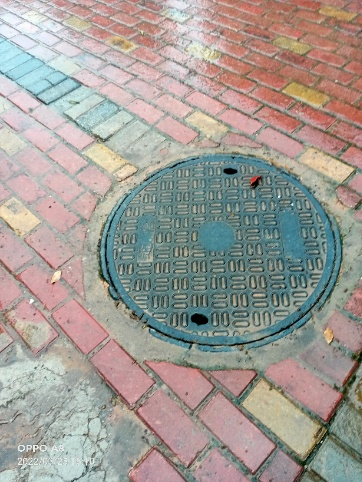good: (100, 154, 345, 352)
